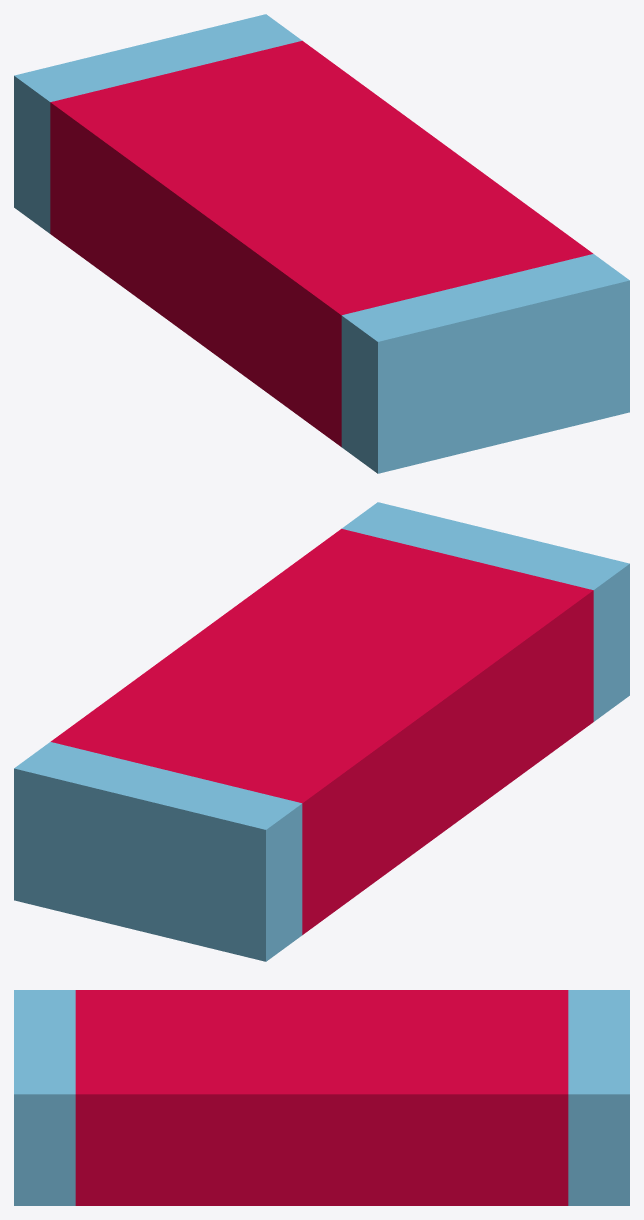
The model's file is 1 Stair.fbx.
3 renders of one model, top to bottom at view 1: azimuth 30°, elevation 25°; view 2: azimuth 150°, elevation 25°; view 3: azimuth 270°, elevation 25°, orthographic. The views are drawn at different scales.
Parts seen in each view (by area): view 1: 1 Stair; view 2: 1 Stair; view 3: 1 Stair.
Part boxes in pixels (x1=…): 1 Stair: x1=14, y1=14, x2=629, y2=473; 1 Stair: x1=14, y1=502, x2=629, y2=961; 1 Stair: x1=14, y1=990, x2=629, y2=1205.
Size of the model in its own units: 40 by 20 by 100.
